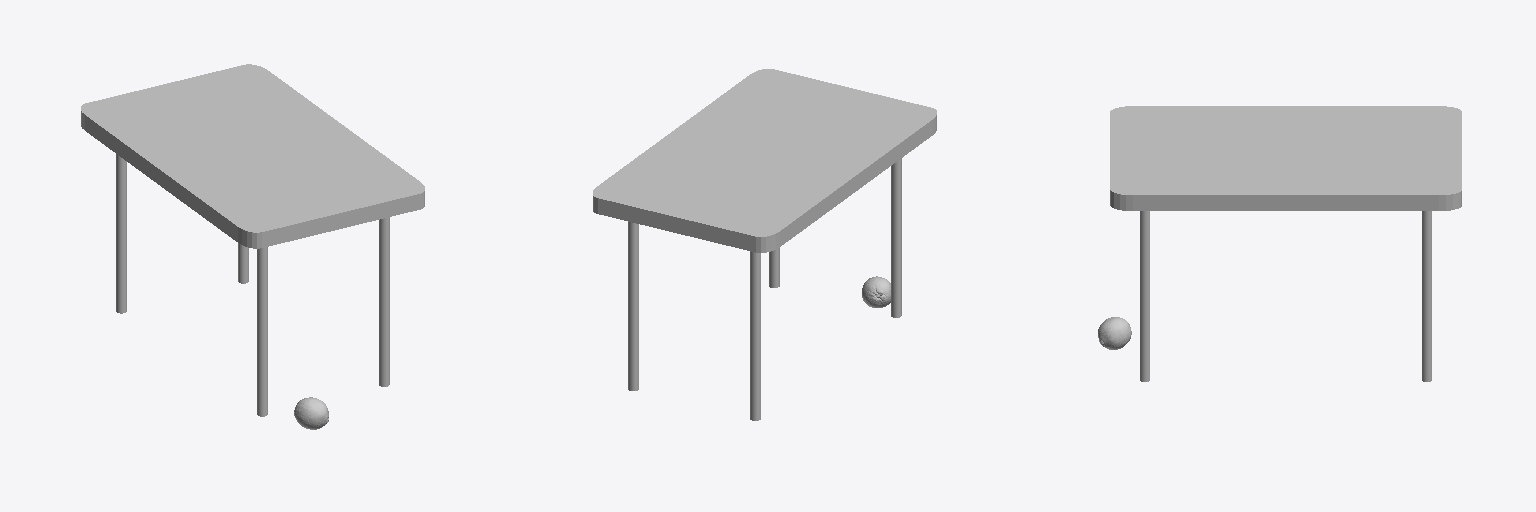
File: orange.obj
3 views of the same model, side by side, from view 1: azimuth 30°, elevation 25°; view 2: azimuth 150°, elevation 25°; view 3: azimuth 270°, elevation 25° (orthographic).
Visible parts, largest first — view 1: Cube, Cylinder.002, Cylinder.003, Cylinder.001, Orange.001; view 2: Cube, Cylinder.001, Cylinder, Cylinder.002, Orange.001; view 3: Cube, Cylinder, Cylinder.003, Orange.001.
Part boxes in pixels (x1,y1,x2,y2): Cube: (81, 64, 424, 248); Cylinder.002: (257, 247, 267, 416); Cylinder.003: (379, 217, 389, 386); Cylinder.001: (116, 154, 126, 313); Orange.001: (294, 397, 328, 429); Cube: (593, 69, 936, 252); Cylinder.001: (750, 251, 760, 420); Cylinder: (628, 222, 638, 390); Cylinder.002: (891, 158, 901, 317); Orange.001: (862, 276, 890, 307); Cube: (1110, 106, 1461, 210); Cylinder: (1422, 211, 1431, 381); Cylinder.003: (1140, 211, 1149, 381); Orange.001: (1098, 317, 1131, 349).
Size of the model in its own units: 0.6 by 0.6593 by 1.03.